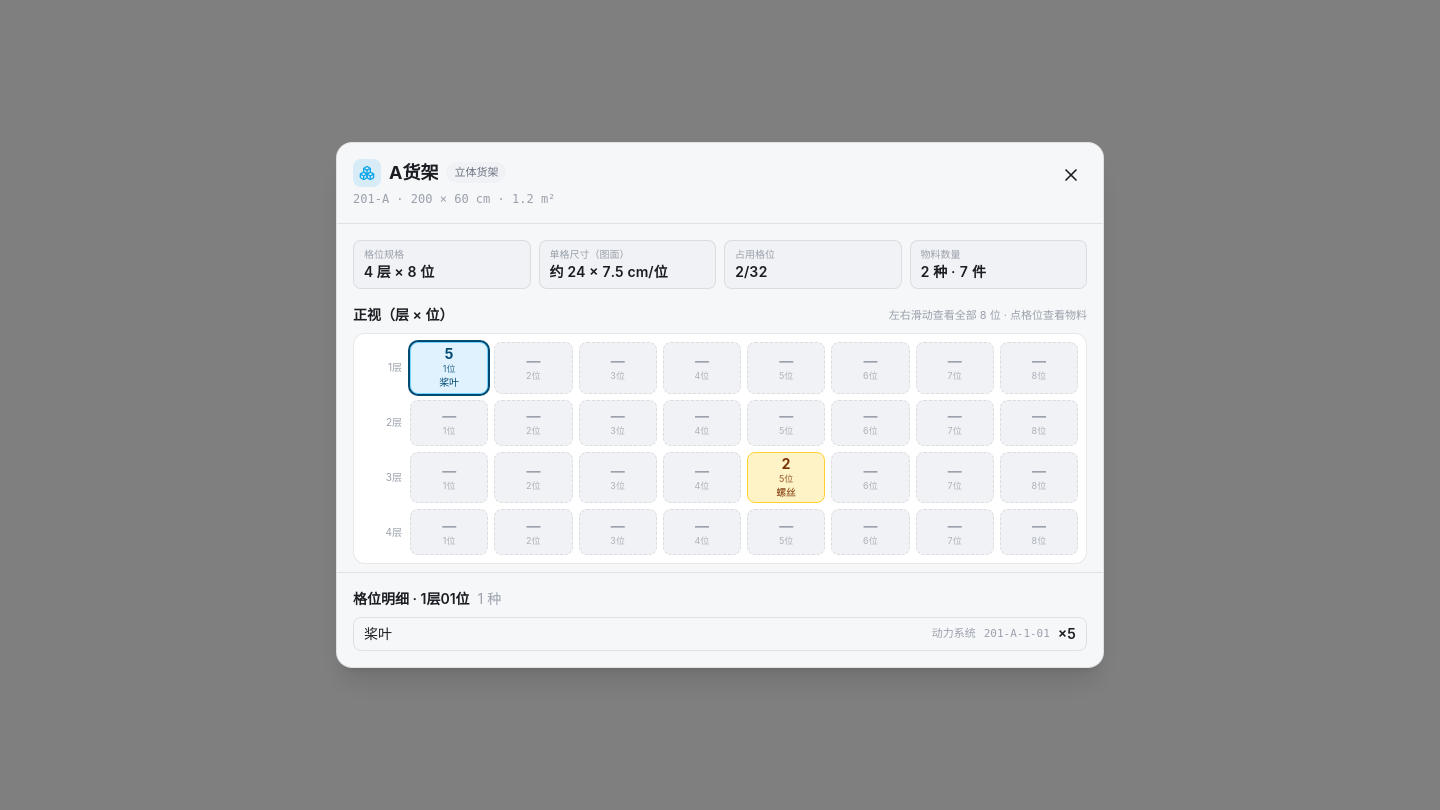
正视细节视图（ElementDetail） › 立体货架按层 × 位展开，点格位切换该格物料清单
Expected: the heading "正视（层 × 位）" is shown, x1=353 y1=305 x2=454 y2=325
Expected: the text "4 层 × 8 位" is shown, x1=364 y1=263 x2=434 y2=280
Click the button titled "3层05位".
click(786, 477)  # box x1=747 y1=452 x2=825 y2=503
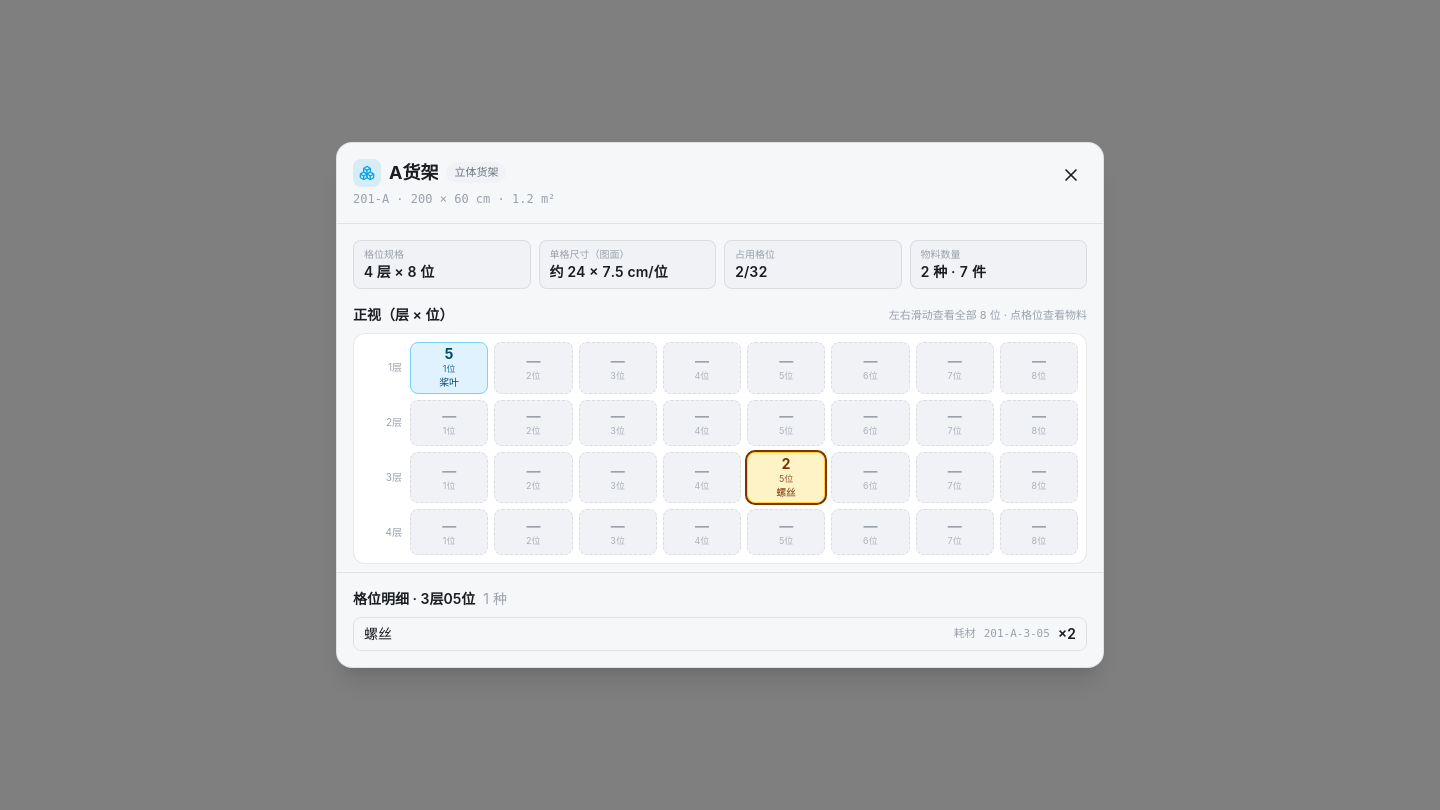
Expected: the heading "格位明细 · 3层05位1 种" is shown, x1=353 y1=590 x2=507 y2=607
Expected: the text "201-A-3-05" is shown, x1=984 y1=626 x2=1050 y2=642
Expected: the text "201-A-1-01" is gone
Click the button titled "4层08位" in the row of "4层".
click(1039, 532)  # box x1=1000 y1=509 x2=1078 y2=555
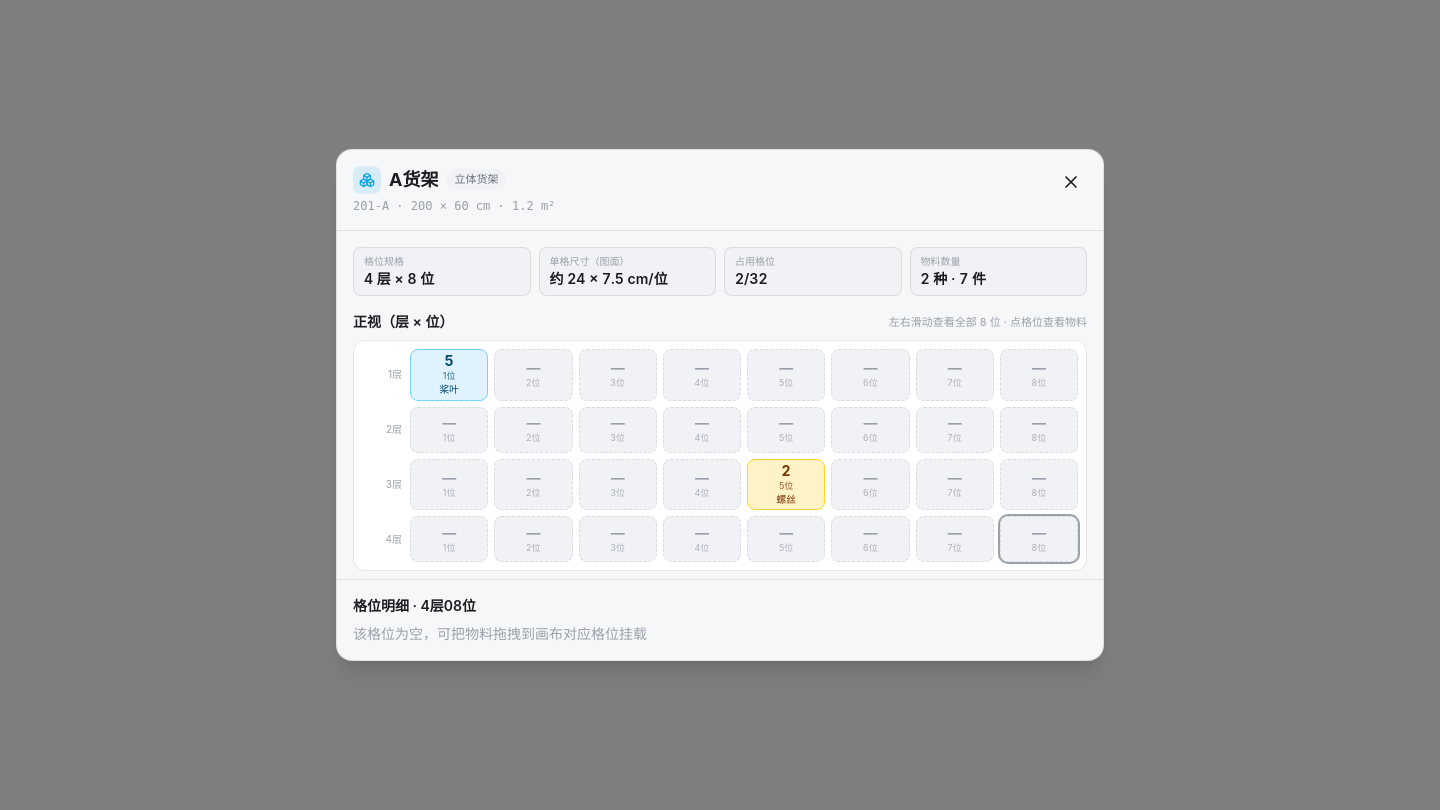
Expected: the heading "格位明细 · 4层08位" is shown, x1=353 y1=597 x2=476 y2=614
Expected: the text "该格位为空，可把物料拖拽到画布对应格位挂载" is shown, x1=353 y1=625 x2=647 y2=642
